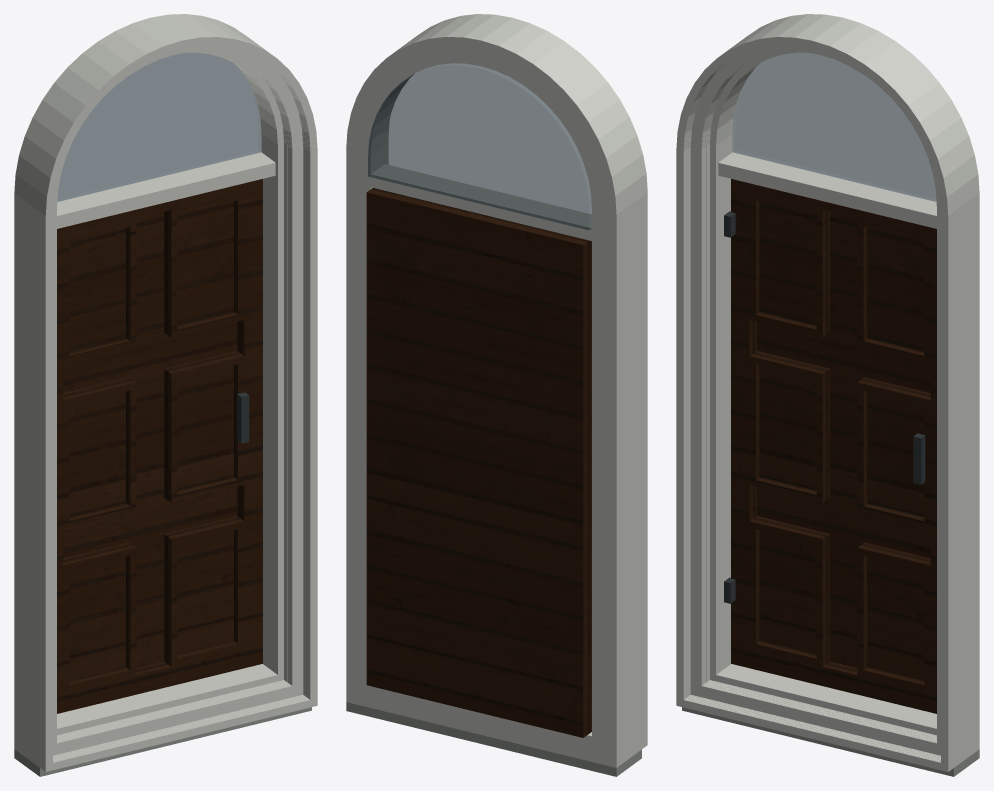
File: clasico_arch_puerta.glb
3 views of the same model, side by side, from view 1: azimuth 30°, elevation 25°; view 2: azimuth 150°, elevation 25°; view 3: azimuth 330°, elevation 25° (orthographic).
Visible parts, largest first — view 1: door_moulding#0020, door_panel_back#0001, door_reveal#0001, transom_glass#0001, door_leaf_frame#0001, door_coffer#0005, door_coffer#0004, door_coffer#0006, door_coffer#0002, door_coffer#0001, door_coffer#0003, door_moulding#0009 (+27 smaller); view 2: door_panel_back#0001, door_reveal#0001, door_leaf_frame#0001, transom_glass#0001, door_moulding#0020, transom_rail#0001, door_threshold#0001; view 3: door_panel_back#0001, door_reveal#0001, door_moulding#0020, transom_glass#0001, door_leaf_frame#0001, door_coffer#0002, door_coffer#0001, door_coffer#0003, door_coffer#0004, door_coffer#0006, door_coffer#0005, door_moulding#0009 (+27 smaller).
Part boxes in pixels (x1,y1,x2,y2): door_moulding#0020: (25, 23, 317, 771); door_panel_back#0001: (63, 212, 237, 667); door_reveal#0001: (14, 14, 274, 758); transom_glass#0001: (57, 52, 261, 201); door_leaf_frame#0001: (57, 179, 262, 713); door_coffer#0005: (164, 351, 239, 499); door_coffer#0004: (164, 516, 239, 663); door_coffer#0006: (164, 201, 233, 334); door_coffer#0002: (63, 377, 131, 516); door_coffer#0001: (63, 542, 131, 680); door_coffer#0003: (69, 227, 125, 351); door_moulding#0009: (54, 48, 294, 746); door_panel_back#0001: (385, 216, 564, 714); door_reveal#0001: (346, 27, 627, 767); door_leaf_frame#0001: (366, 188, 591, 737); transom_glass#0001: (368, 63, 591, 230); door_moulding#0020: (402, 14, 647, 759); transom_rail#0001: (370, 164, 591, 240); door_threshold#0001: (346, 702, 641, 776); door_panel_back#0001: (756, 212, 930, 667); door_reveal#0001: (719, 14, 979, 758); door_moulding#0020: (676, 24, 967, 771); transom_glass#0001: (732, 52, 936, 201); door_leaf_frame#0001: (731, 179, 936, 713); door_coffer#0002: (754, 351, 829, 499); door_coffer#0001: (754, 516, 829, 663); door_coffer#0003: (760, 201, 829, 334); door_coffer#0004: (862, 542, 930, 680); door_coffer#0006: (868, 227, 924, 351); door_coffer#0005: (862, 377, 930, 516); door_moulding#0009: (699, 48, 939, 746).
Size of the model in its own units: 1.1 by 2.73 by 0.265.
5 materials, 1 textured.
